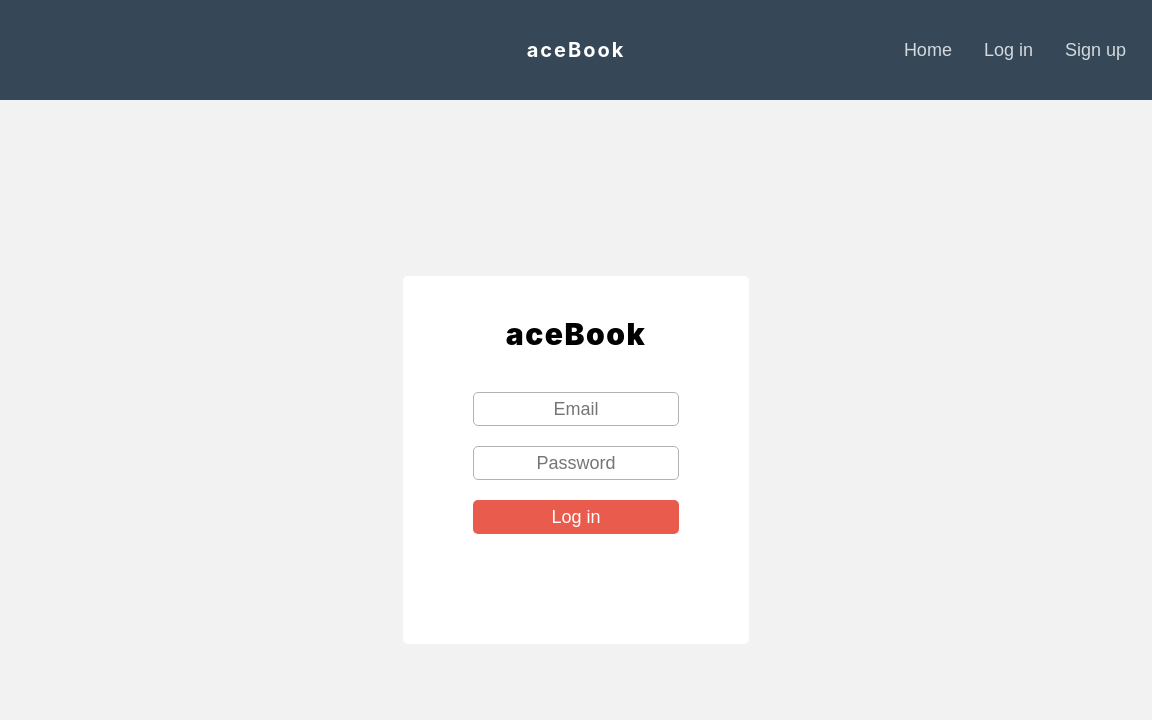
Test case: Login Page › displays error message Email or password not entered if both inputs empty
The image size is (1152, 720).
What coordinates should you click on to do the following:
click the 2nd button "Log in"
I would click on:
 (576, 517)
Its box is top-left (473, 500), bottom-right (679, 534).
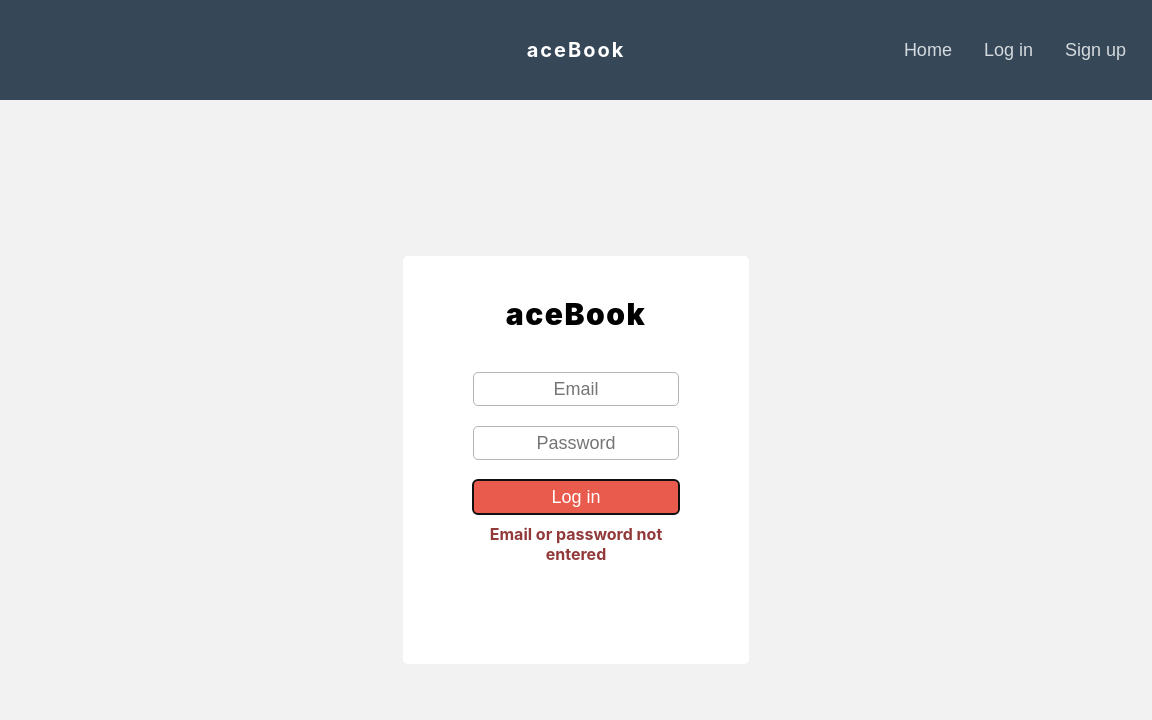
Expected: the text "Email or password not entered" is shown, top-left (490, 524), bottom-right (662, 564)
